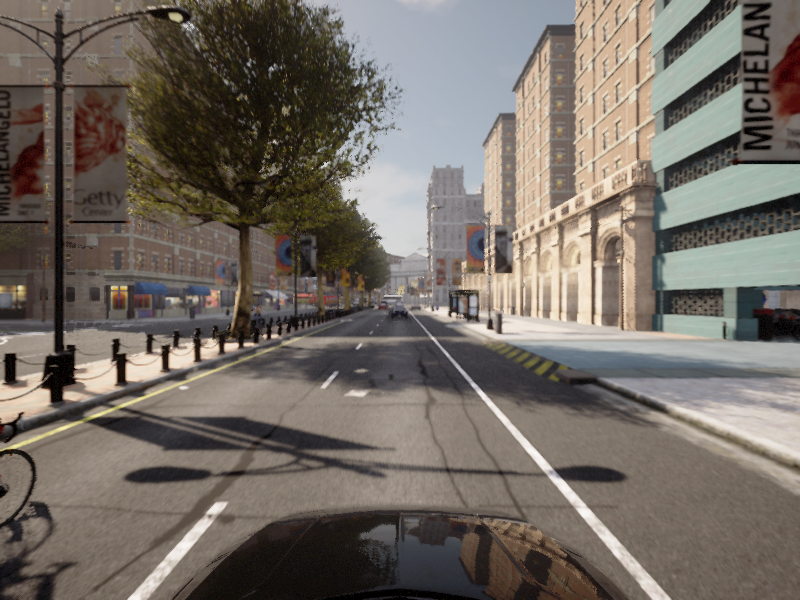vehicle: (1, 341, 67, 599), (248, 304, 265, 325), (235, 304, 253, 321), (387, 306, 408, 318)
